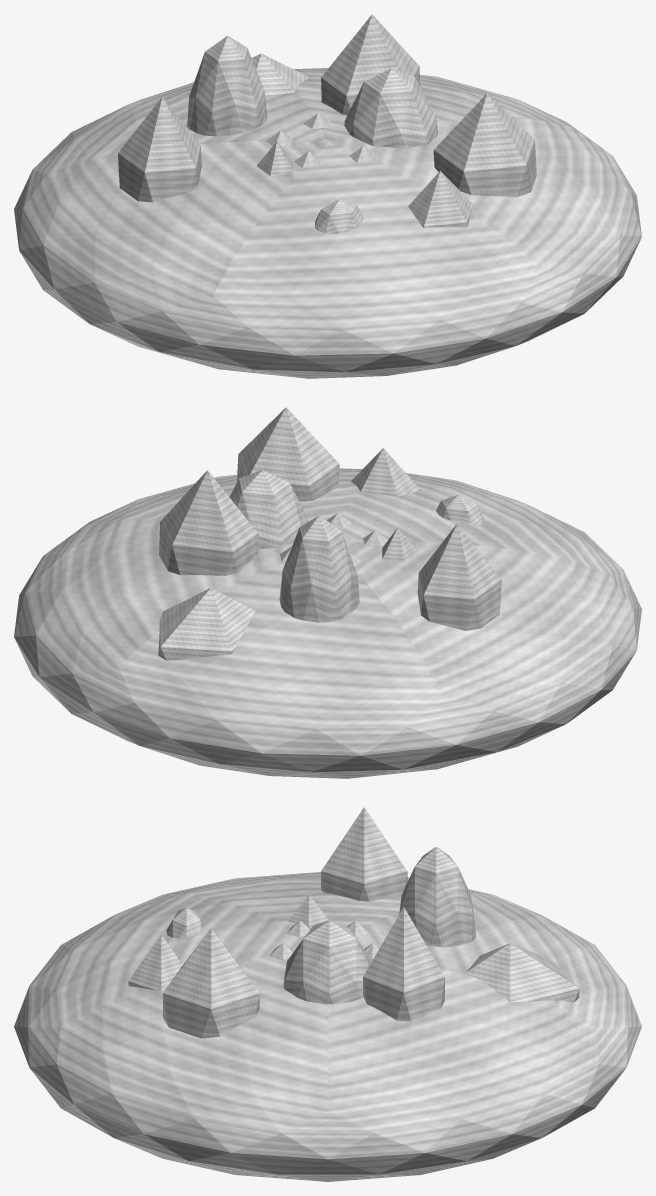
Rendered from sulfur_node_variant_a.glb.
The picture shows the model from 3 angles, top to bottom: view 1: azimuth 30°, elevation 25°; view 2: azimuth 150°, elevation 25°; view 3: azimuth 270°, elevation 25°; orthographic projection.
Visible parts, largest first — view 1: Resource node bedrock, Exposed ore formation.009, Exposed ore formation.005, Exposed ore formation.004, Exposed ore formation.001, Exposed ore formation.002, Exposed ore formation.008, Exposed ore formation.003, Exposed ore formation.007, Exposed ore formation.006; view 2: Resource node bedrock, Exposed ore formation.002, Exposed ore formation.004, Exposed ore formation.005, Exposed ore formation.009, Exposed ore formation.003, Exposed ore formation.001, Exposed ore formation.008, Exposed ore formation.007, Exposed ore formation.006; view 3: Resource node bedrock, Exposed ore formation.009, Exposed ore formation.002, Exposed ore formation.001, Exposed ore formation.004, Exposed ore formation.005, Exposed ore formation.003, Exposed ore formation.008, Exposed ore formation.007, Exposed ore formation.006.
Boxes of the visible parts, x1,y1,x2,y2 form: Resource node bedrock: (14,68,641,378); Exposed ore formation.009: (433,93,536,197); Exposed ore formation.005: (117,97,201,202); Exposed ore formation.004: (187,35,266,136); Exposed ore formation.001: (344,68,437,148); Exposed ore formation.002: (321,14,420,115); Exposed ore formation.008: (408,170,472,227); Exposed ore formation.003: (251,53,309,95); Exposed ore formation.007: (315,199,363,233); Exposed ore formation.006: (256,141,292,176); Resource node bedrock: (14,468,641,778); Exposed ore formation.002: (159,470,258,575); Exposed ore formation.004: (279,515,359,622); Exposed ore formation.005: (417,523,501,630); Exposed ore formation.009: (236,407,339,501); Exposed ore formation.003: (158,587,255,660); Exposed ore formation.001: (229,469,308,549); Exposed ore formation.008: (351,448,420,496); Exposed ore formation.007: (436,495,484,525); Exposed ore formation.006: (382,527,418,562); Resource node bedrock: (14,872,641,1181); Exposed ore formation.009: (163,928,259,1038); Exposed ore formation.002: (363,907,444,1021); Exposed ore formation.001: (283,920,371,1004); Exposed ore formation.004: (399,846,476,947); Exposed ore formation.005: (321,807,407,901); Exposed ore formation.003: (465,943,579,1002); Exposed ore formation.008: (128,934,182,991); Exposed ore formation.007: (166,907,204,938); Exposed ore formation.006: (288,894,328,926).
Size of what is drawn, in the model's own units: 6 by 2.54 by 6.
Materials: 2 (2 with a texture image).
